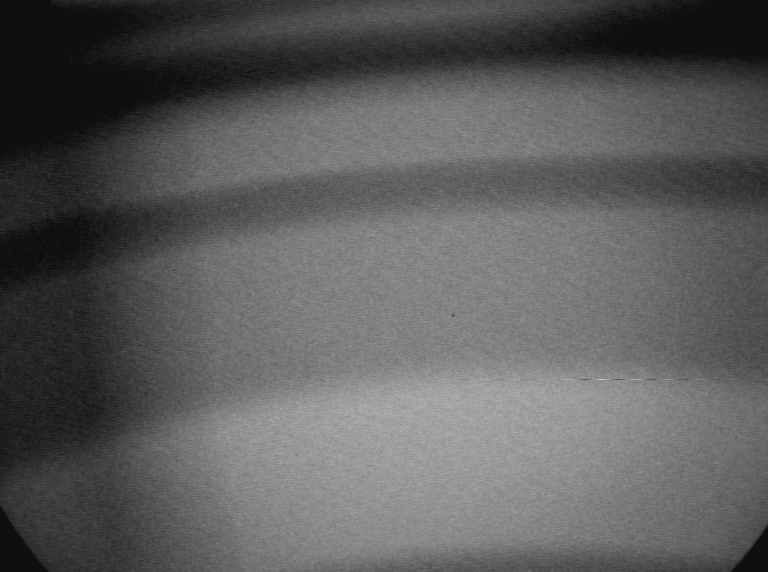defect: (4, 72, 233, 567)
